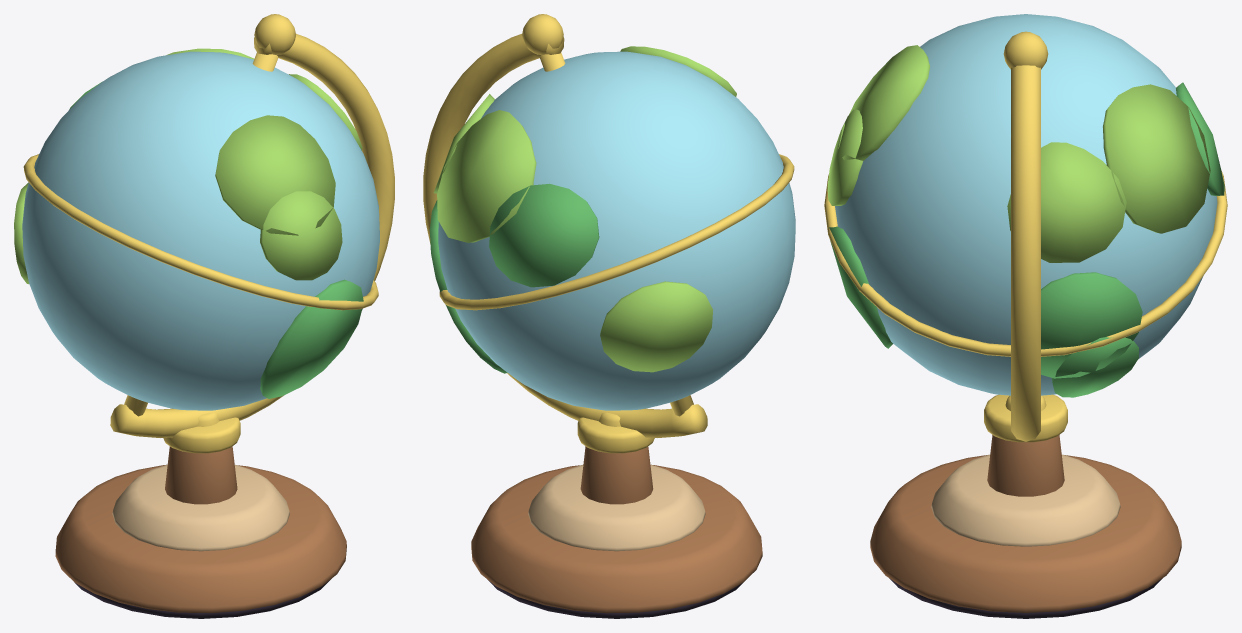
The model's file is globe.glb.
3 views of the same model, side by side, from view 1: azimuth 30°, elevation 25°; view 2: azimuth 150°, elevation 25°; view 3: azimuth 270°, elevation 25° (orthographic). The views are drawn at different scales.
Parts seen in each view (by area): view 1: DecGlobe_OceanSphere, DecGlobe_WoodStand, DecGlobe_MeridianAndAxis, DecGlobe_ContinentsLight, DecGlobe_StandCollar, DecGlobe_ContinentsMid, DecGlobe_BasePad; view 2: DecGlobe_OceanSphere, DecGlobe_WoodStand, DecGlobe_ContinentsLight, DecGlobe_MeridianAndAxis, DecGlobe_ContinentsMid, DecGlobe_StandCollar, DecGlobe_BasePad; view 3: DecGlobe_OceanSphere, DecGlobe_WoodStand, DecGlobe_ContinentsLight, DecGlobe_MeridianAndAxis, DecGlobe_ContinentsMid, DecGlobe_StandCollar, DecGlobe_BasePad.
Boxes of the visible parts, left/top/right/bottom form: DecGlobe_OceanSphere: left=22, top=51, right=379, bottom=410; DecGlobe_WoodStand: left=55, top=446, right=346, bottom=613; DecGlobe_MeridianAndAxis: left=23, top=14, right=394, bottom=453; DecGlobe_ContinentsLight: left=14, top=48, right=362, bottom=284; DecGlobe_StandCollar: left=112, top=464, right=289, bottom=551; DecGlobe_ContinentsMid: left=69, top=81, right=363, bottom=398; DecGlobe_BasePad: left=74, top=579, right=330, bottom=618; DecGlobe_OceanSphere: left=438, top=51, right=795, bottom=410; DecGlobe_WoodStand: left=471, top=446, right=762, bottom=613; DecGlobe_ContinentsLight: left=433, top=46, right=736, bottom=372; DecGlobe_MeridianAndAxis: left=423, top=14, right=794, bottom=453; DecGlobe_ContinentsMid: left=429, top=183, right=599, bottom=373; DecGlobe_StandCollar: left=528, top=465, right=705, bottom=551; DecGlobe_BasePad: left=487, top=579, right=742, bottom=618; DecGlobe_OceanSphere: left=835, top=14, right=1217, bottom=395; DecGlobe_WoodStand: left=870, top=435, right=1181, bottom=612; DecGlobe_ContinentsLight: left=827, top=45, right=1210, bottom=262; DecGlobe_MeridianAndAxis: left=824, top=31, right=1227, bottom=442; DecGlobe_ContinentsMid: left=829, top=82, right=1224, bottom=397; DecGlobe_StandCollar: left=931, top=454, right=1120, bottom=546; DecGlobe_BasePad: left=889, top=578, right=1162, bottom=618.
Size of the model in its own units: 0.3254 by 0.4716 by 0.307.
